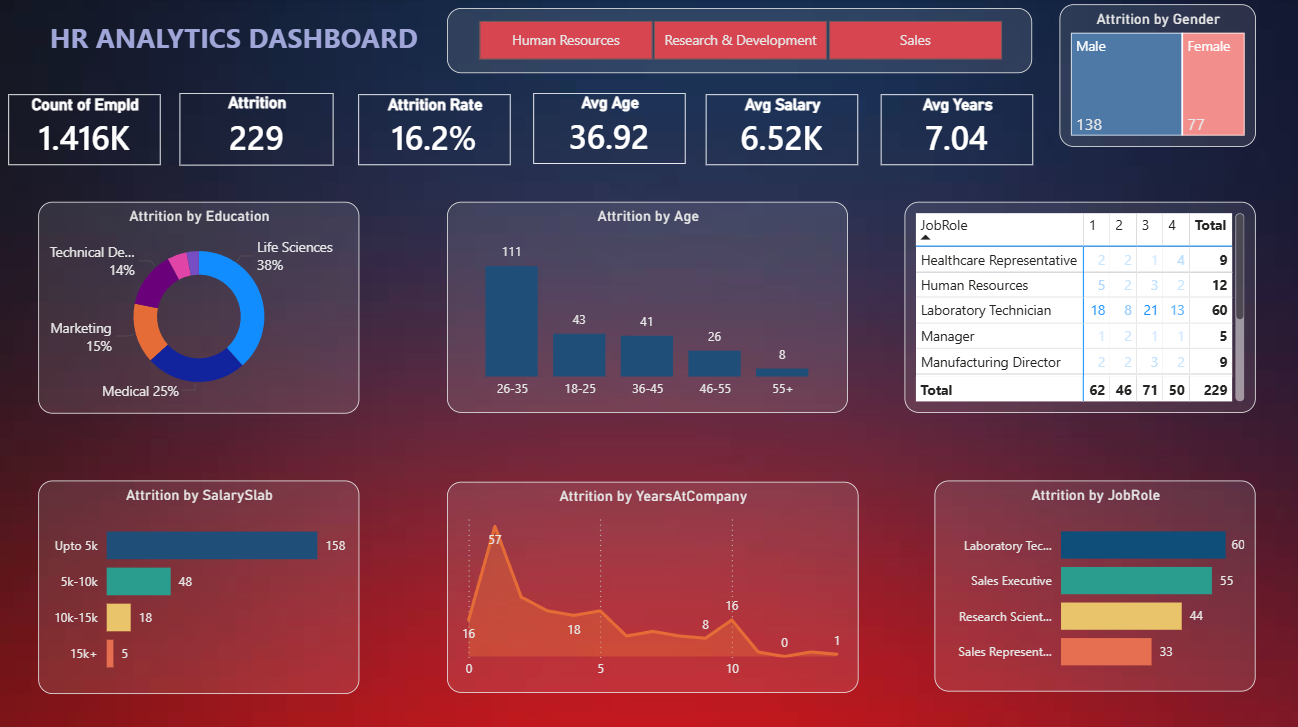

This screenshot's page, from the dashboard's own definition file:
{"tool":"powerbi","page":{"name":"Page 1","canvas":[1280,720],"ordinal":0},"visuals":[{"type":"cardVisual","title":"Count of EmpId","fields":{"Data":["CountNonNull(HR_Analytics.EmpID)"]},"box":[11.4,94.1,149.7,69.8],"z":0},{"type":"cardVisual","title":"Attrition","fields":{"Data":["Sum(HR_Analytics.AttritionCount)"]},"box":[179.6,92.7,151.1,71.3],"z":1000},{"type":"cardVisual","title":"Attrition Rate","fields":{"Data":["HR_Analytics.AttritionRate"]},"box":[354.9,94.1,149.7,69.8],"z":2000},{"type":"cardVisual","title":"Avg Age","fields":{"Data":["Avg(HR_Analytics.Age)"]},"box":[526,92.7,149.7,69.8],"z":3000},{"type":"cardVisual","title":"Avg Salary","fields":{"Data":["Avg(HR_Analytics.MonthlyIncome)"]},"box":[695.6,94.1,149.7,69.8],"z":4000},{"type":"cardVisual","title":"Avg Years","fields":{"Data":["Avg(HR_Analytics.YearsAtCompany)"]},"box":[868.1,94.1,149.7,69.8],"z":5000},{"type":"donutChart","title":"Attrition by Education","fields":{"Category":["HR_Analytics.EducationField"],"Y":["Sum(HR_Analytics.AttritionCount)"]},"box":[39.9,199.6,315,208.1],"z":6000},{"type":"columnChart","title":"Attrition by Age","fields":{"Category":["HR_Analytics.AgeGroup"],"Y":["Sum(HR_Analytics.AttritionCount)"]},"box":[441.7,200,393.9,207.4],"z":7000},{"type":"pivotTable","fields":{"Rows":["HR_Analytics.JobRole"],"Columns":["HR_Analytics.JobSatisfaction"],"Values":["Sum(HR_Analytics.AttritionCount)"]},"box":[890.8,200,344.8,207.4],"z":8000},{"type":"barChart","title":"Attrition by SalarySlab ","fields":{"Category":["HR_Analytics.SalarySlab"],"Y":["Sum(HR_Analytics.AttritionCount)"]},"box":[39.9,473.2,315,209.5],"z":9000},{"type":"barChart","title":"Attrition by SalarySlab ","fields":{"Category":["HR_Analytics.JobRole"],"Y":["Sum(HR_Analytics.AttritionCount)"]},"box":[920.3,473.6,315.3,207.4],"z":10000},{"type":"areaChart","title":"Attrition by YearsAtCompany ","fields":{"Category":["HR_Analytics.YearsAtCompany"],"Y":["Sum(HR_Analytics.AttritionCount)"]},"box":[441.7,474.8,403.7,207.4],"z":11000},{"type":"treemap","title":"Attrition by Gender","fields":{"Values":["Sum(HR_Analytics.AttritionCount)"],"Group":["HR_Analytics.Gender"]},"box":[1043.4,5.7,192.4,139.7],"z":12000},{"type":"slicer","fields":{"Values":["HR_Analytics.Department"]},"box":[441.7,9.8,574.2,63.8],"z":13000},{"type":"textbox","box":[0,15.7,464.7,58.4],"z":14000}]}

Visuals, with their boxes in screenshot pixels (x1, y1, x2, y2), scaled from the page's 1280x720 canvas onto the 1298x727 screenshot:
"Count of EmpId" cardVisual: l=12, t=95, r=163, b=165
"Attrition" cardVisual: l=182, t=94, r=335, b=166
"Attrition Rate" cardVisual: l=360, t=95, r=512, b=165
"Avg Age" cardVisual: l=533, t=94, r=685, b=164
"Avg Salary" cardVisual: l=705, t=95, r=857, b=165
"Avg Years" cardVisual: l=880, t=95, r=1032, b=165
"Attrition by Education" donutChart: l=40, t=202, r=360, b=412
"Attrition by Age" columnChart: l=448, t=202, r=847, b=411
pivotTable - HR_Analytics.JobRole x HR_Analytics.JobSatisfaction: l=903, t=202, r=1253, b=411
"Attrition by SalarySlab " barChart: l=40, t=478, r=360, b=689
"Attrition by SalarySlab " barChart: l=933, t=478, r=1253, b=688
"Attrition by YearsAtCompany " areaChart: l=448, t=479, r=857, b=689
"Attrition by Gender" treemap: l=1058, t=6, r=1253, b=147
slicer - HR_Analytics.Department: l=448, t=10, r=1030, b=74
textbox: l=0, t=16, r=471, b=75
